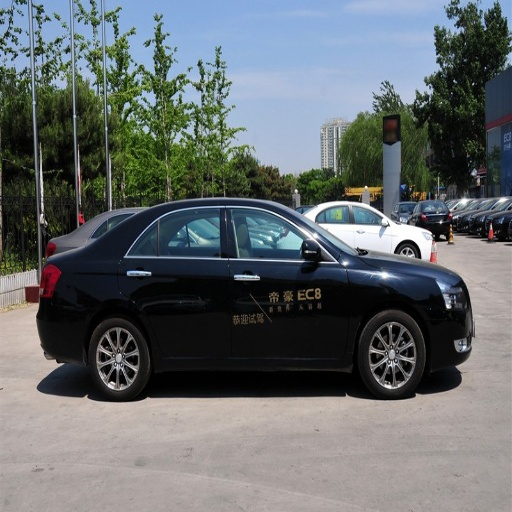back_right_door: (123, 203, 229, 357)
front_right_door: (227, 204, 346, 358)
